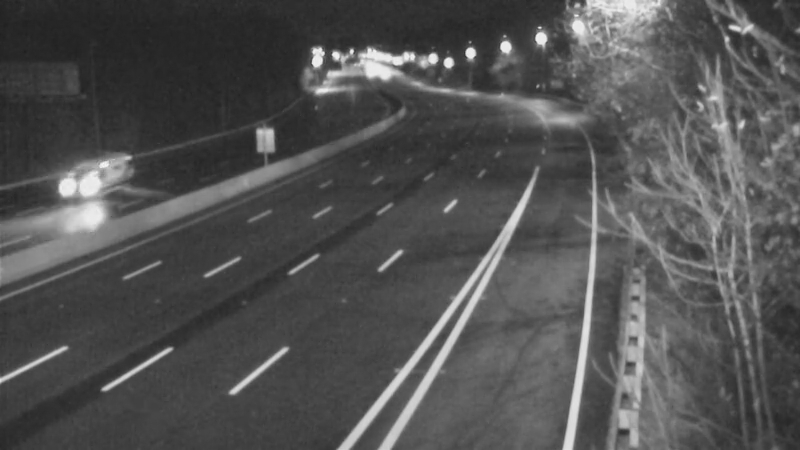vehicle: (43, 143, 123, 223)
